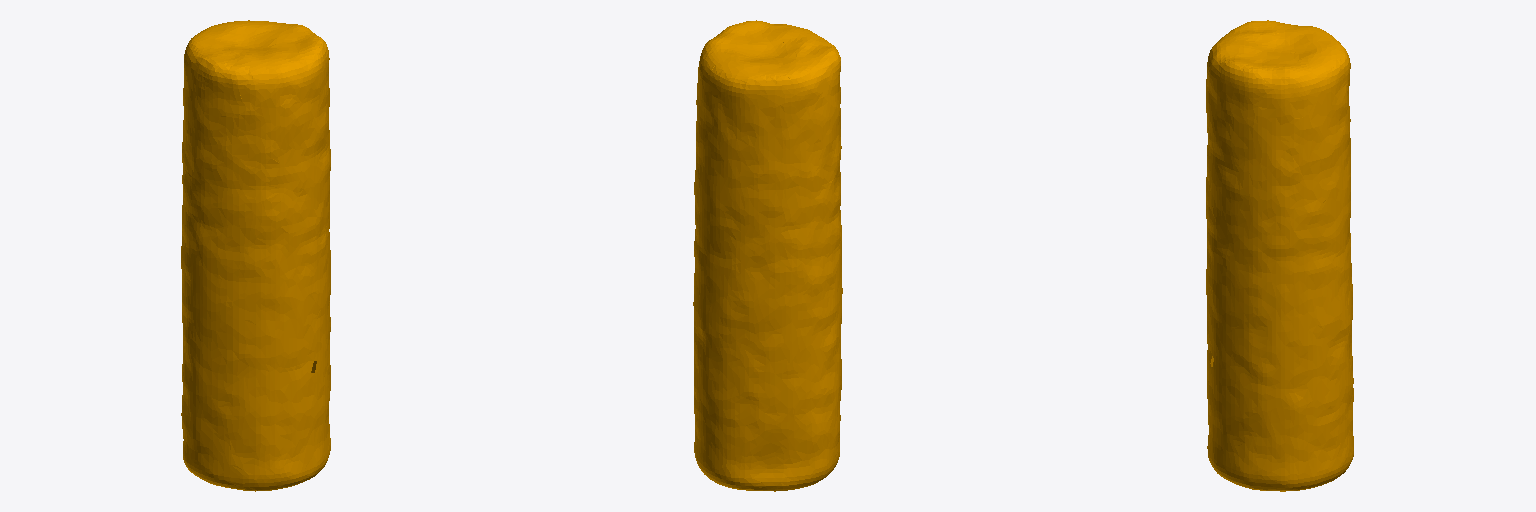
The robot description file, URDF, robot "001_chips_can":
<?xml version="1.0"?>
<robot name="001_chips_can">
  <link name="base_link">
    <inertial>
      <origin xyz="-0.005990 0.011081 0.122439" rpy="0 0 0" />
      <mass value="1.086181" />
      <inertia ixx="0.00554784" ixy="-0.00000748" ixz="0.00001584"
               iyy="0.00557127" iyz="0.00002511" izz="0.00077740" />
    </inertial>
    <visual>
      <geometry><mesh filename="001_chips_can.stl" scale="1.0 1.0 1.0" /></geometry>
    </visual>
    <collision>
      <geometry><mesh filename="001_chips_can_col.obj" scale="1.0 1.0 1.0" /></geometry>
    </collision>
    <contact>
      <lateral_friction value="1.0"/>
    </contact>
  </link>
</robot>

--- Facts derived from the render (not from the file) ---
Views: 3 orthographic renders of the robot side by side, from view 1: azimuth 30°, elevation 25°; view 2: azimuth 150°, elevation 25°; view 3: azimuth 270°, elevation 25°.
Robot: 001_chips_can — 1 links, 0 joints (none); root link base_link; default pose: every joint at zero.
Visible links, largest first — view 1: base_link; view 2: base_link; view 3: base_link.
Link boxes in pixels (left/top/right/bottom): base_link: left=181, top=20, right=330, bottom=491; base_link: left=693, top=20, right=842, bottom=491; base_link: left=1206, top=20, right=1353, bottom=491.
Size in the robot's own frame: 0.0794 by 0.0776 by 0.2455 metres.
1 mesh visuals loaded from 1 distinct referenced files (1 binary STL).
